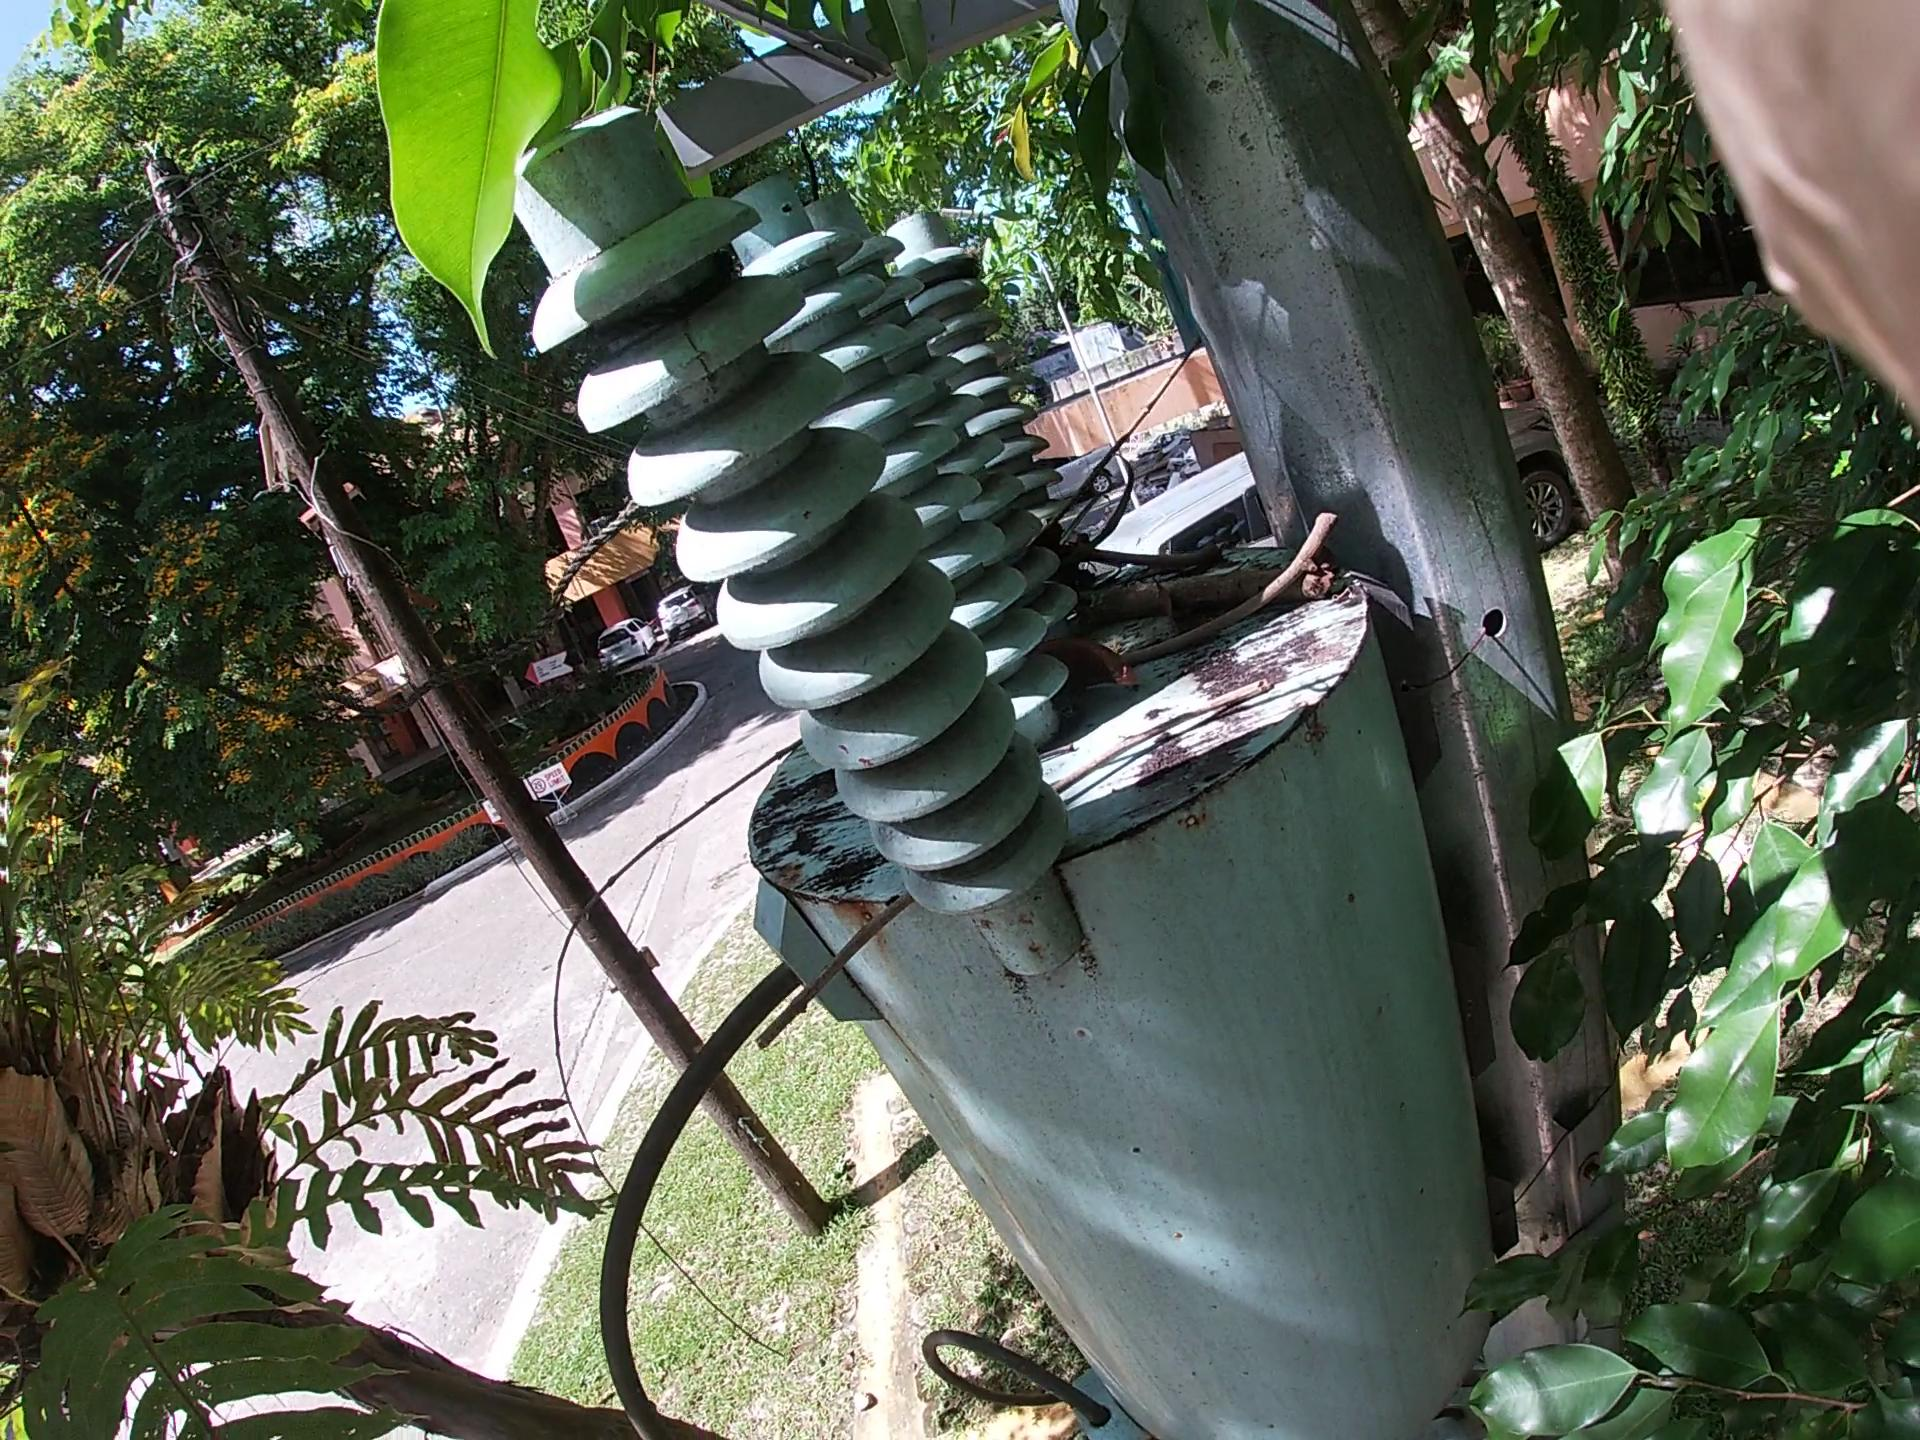leaf: (1157, 549, 1222, 649)
tree branch: (578, 309, 1160, 1260), (1064, 510, 1318, 706), (804, 797, 1030, 1016), (1067, 529, 1377, 625), (1037, 461, 1200, 584)
